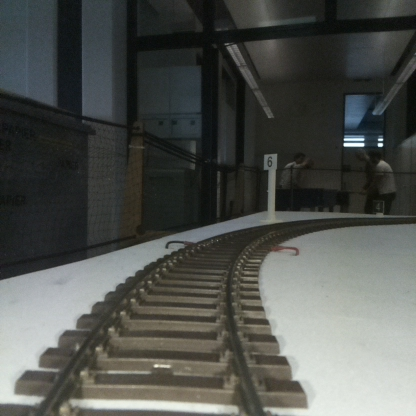white-info-6: (264, 154, 276, 216)
